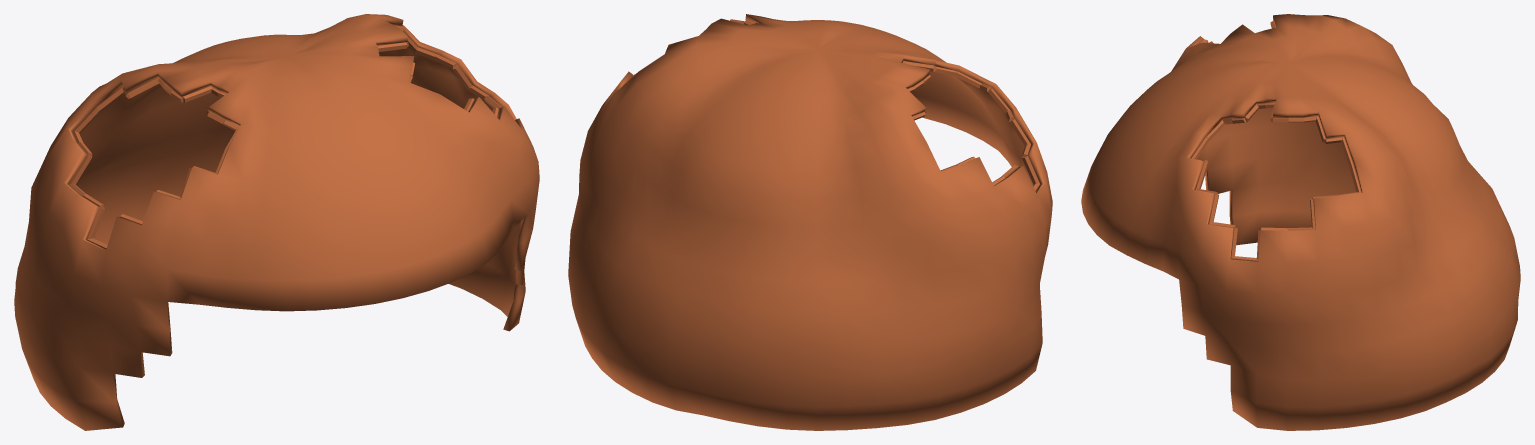
Rendered from Helm_CAT.fbx.
The picture shows the model from 3 angles, left to right: view 1: azimuth 30°, elevation 25°; view 2: azimuth 150°, elevation 25°; view 3: azimuth 270°, elevation 25°; orthographic projection. The views are drawn at different scales.
Visible parts, largest first — view 1: Helm_CAT; view 2: Helm_CAT; view 3: Helm_CAT.
Part boxes in pixels (left/top/right/bottom): Helm_CAT: left=14, top=14, right=539, bottom=430; Helm_CAT: left=568, top=14, right=1052, bottom=430; Helm_CAT: left=1081, top=14, right=1520, bottom=430.
Bounding box in the file's own units: 0.6593 × 0.4194 × 0.6046.
